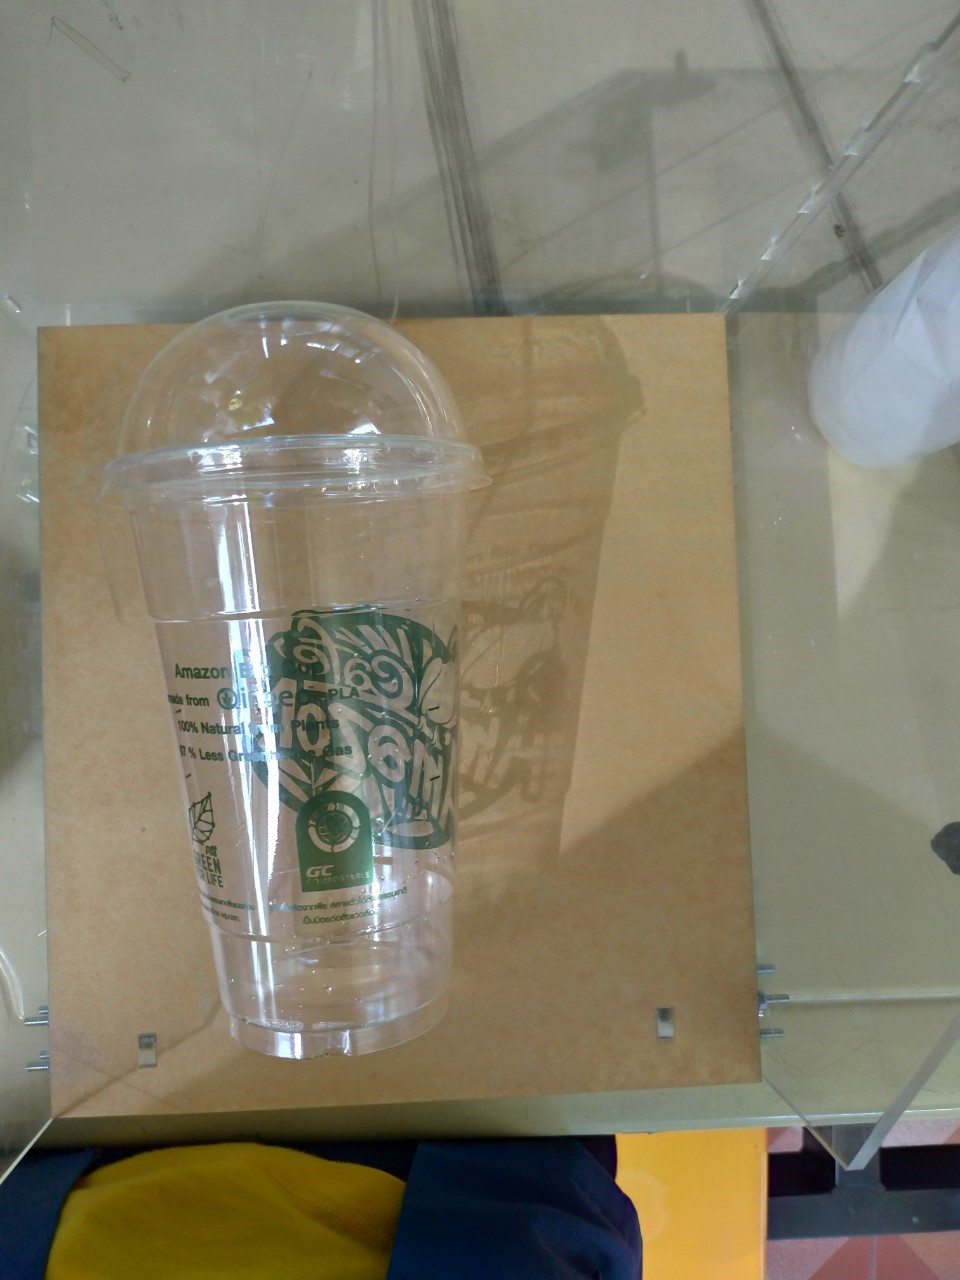PlasticCup: (102, 298, 488, 1053)
